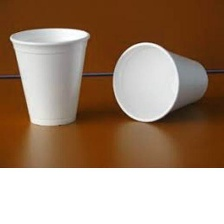paper_cup: (6, 24, 93, 130), (108, 38, 213, 124)
